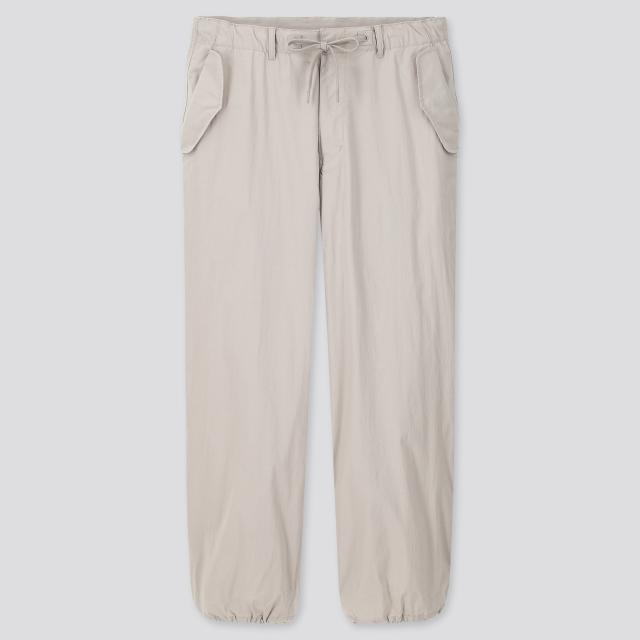long-pants: (181, 18, 462, 631)
